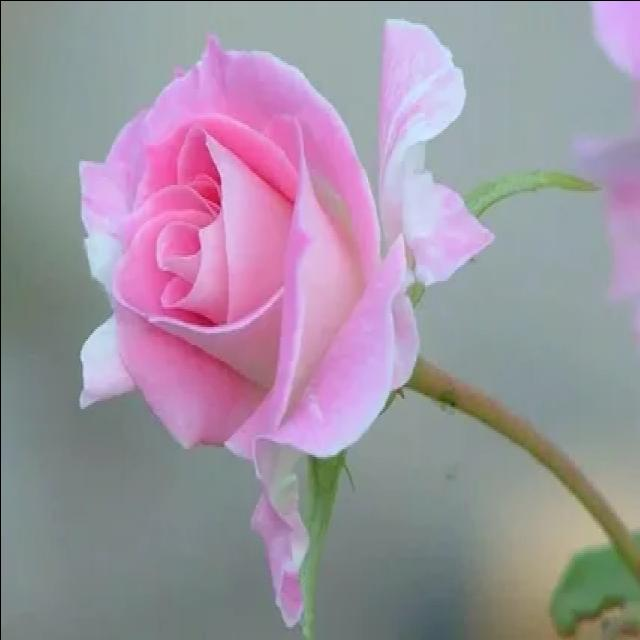rose: (45, 17, 481, 530)
